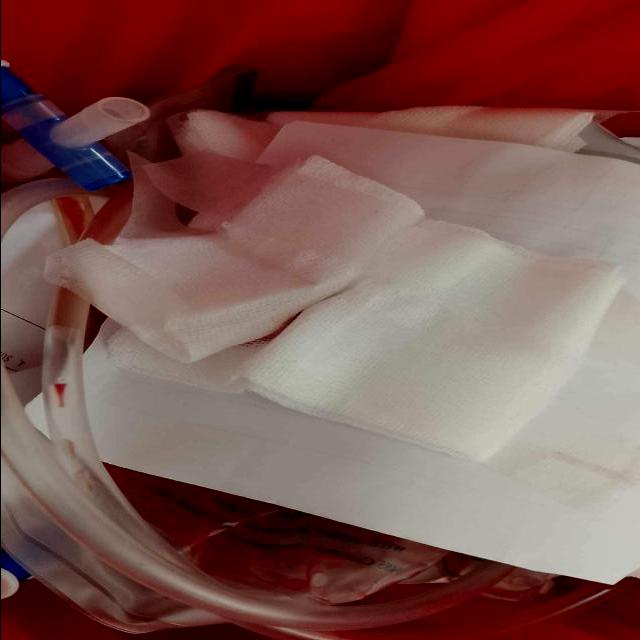General: (2, 56, 639, 637)
Sharps: (1, 58, 133, 193)
